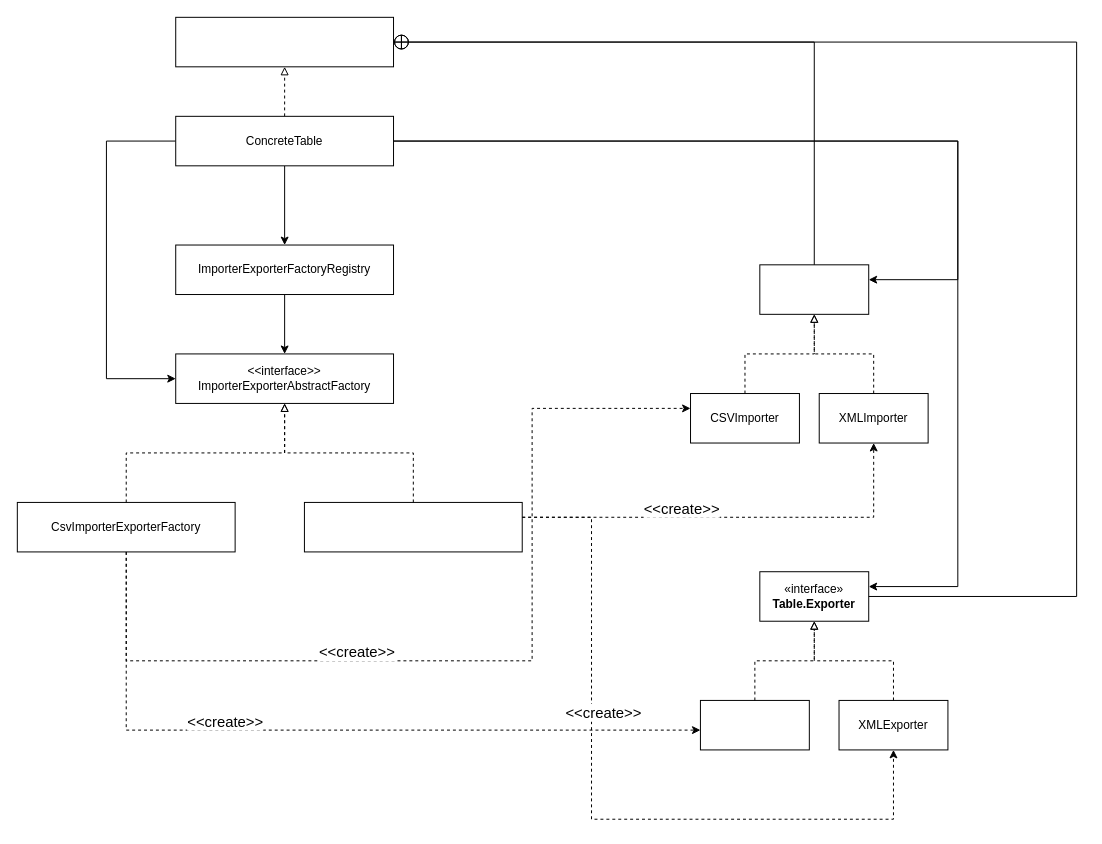
Image size: 1102x844. Some labels were removed from this diagram. The shapes that lost their labels are listed below. From the top down, each one's centre as x and y in pixels, then its label:
At point 284,41: "Table".
At point 814,289: "«interface» Table.Importer".
At point 412,526: "XmlImporterExporterFactory".
At point 754,724: "CSVExporter".
